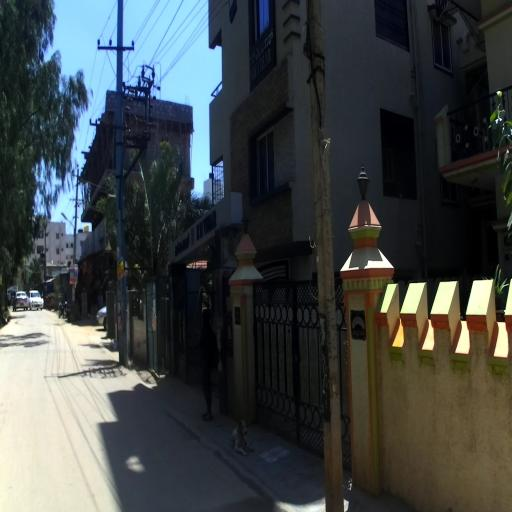street_light_0: (61, 212, 77, 237)
